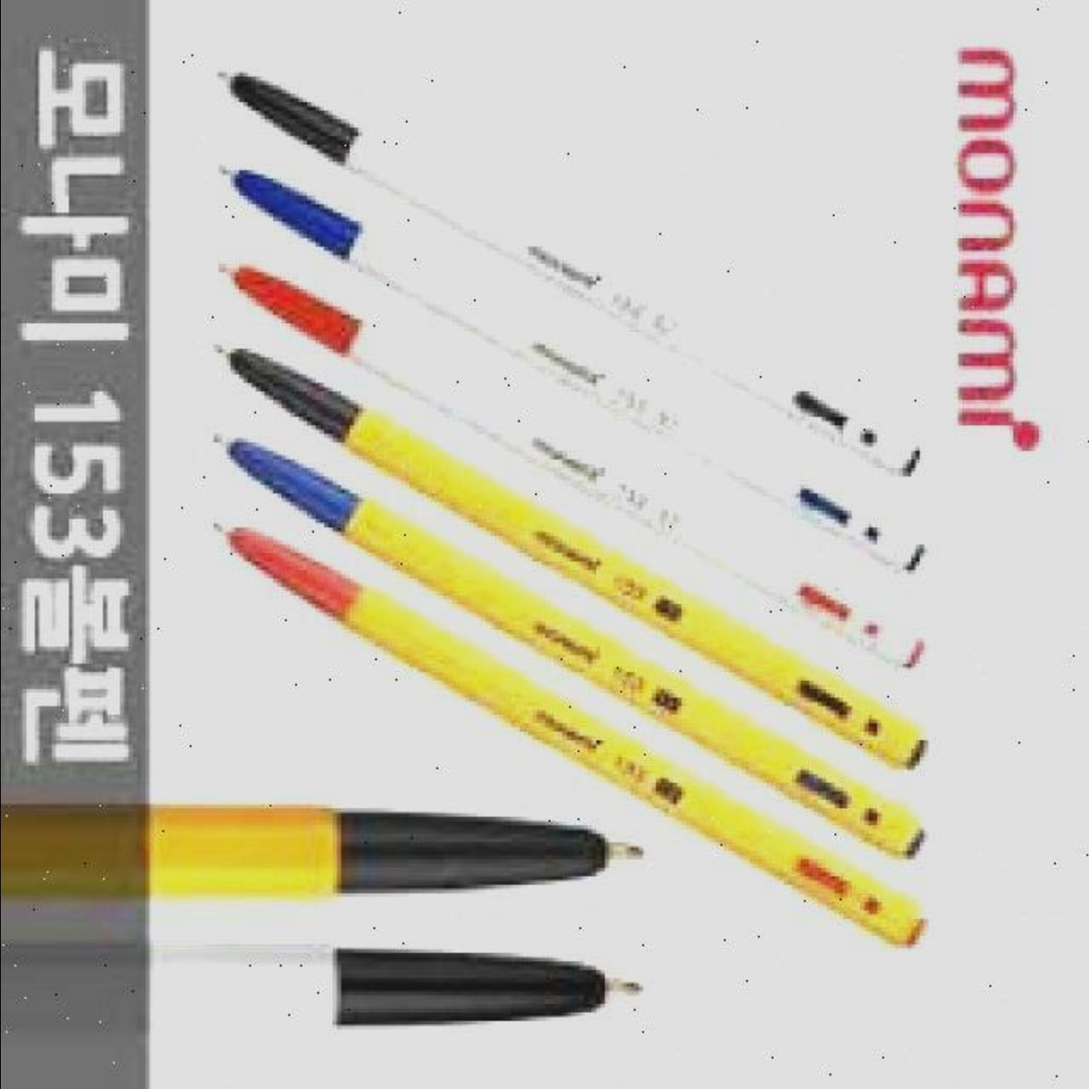pen: (211, 68, 922, 485)
